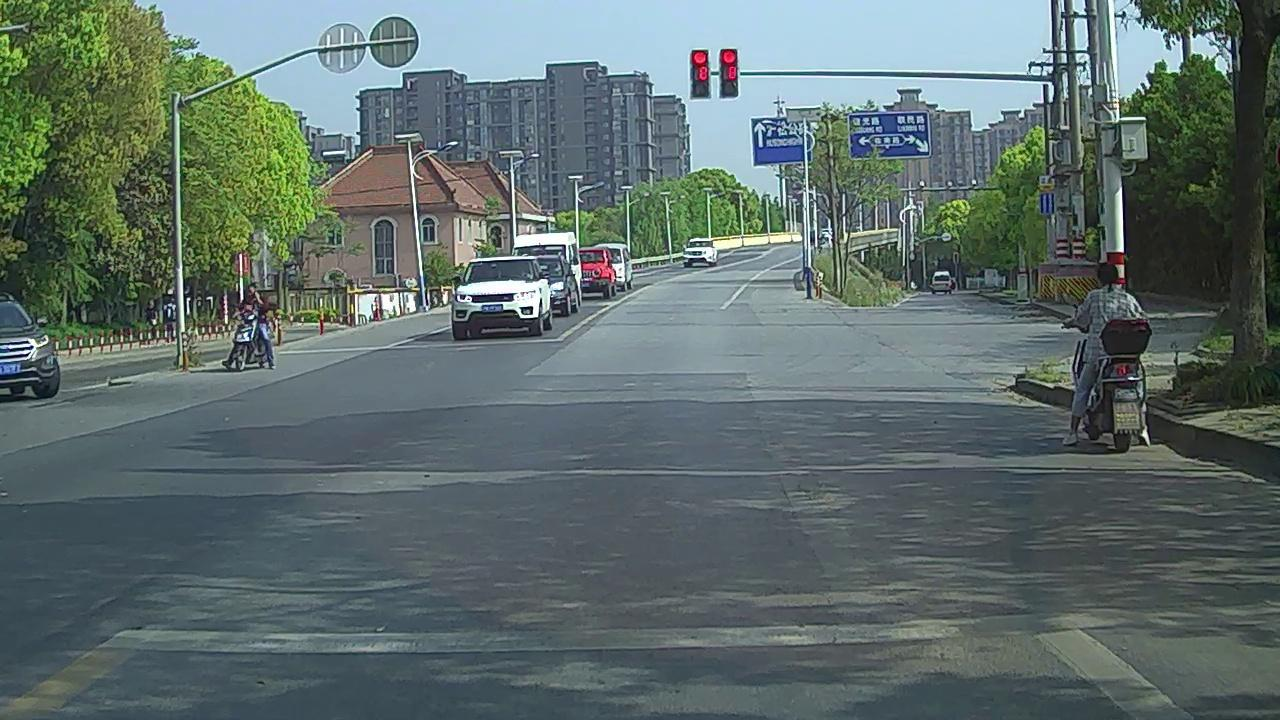traffic_light: (720, 49, 737, 98), (692, 50, 708, 97)
